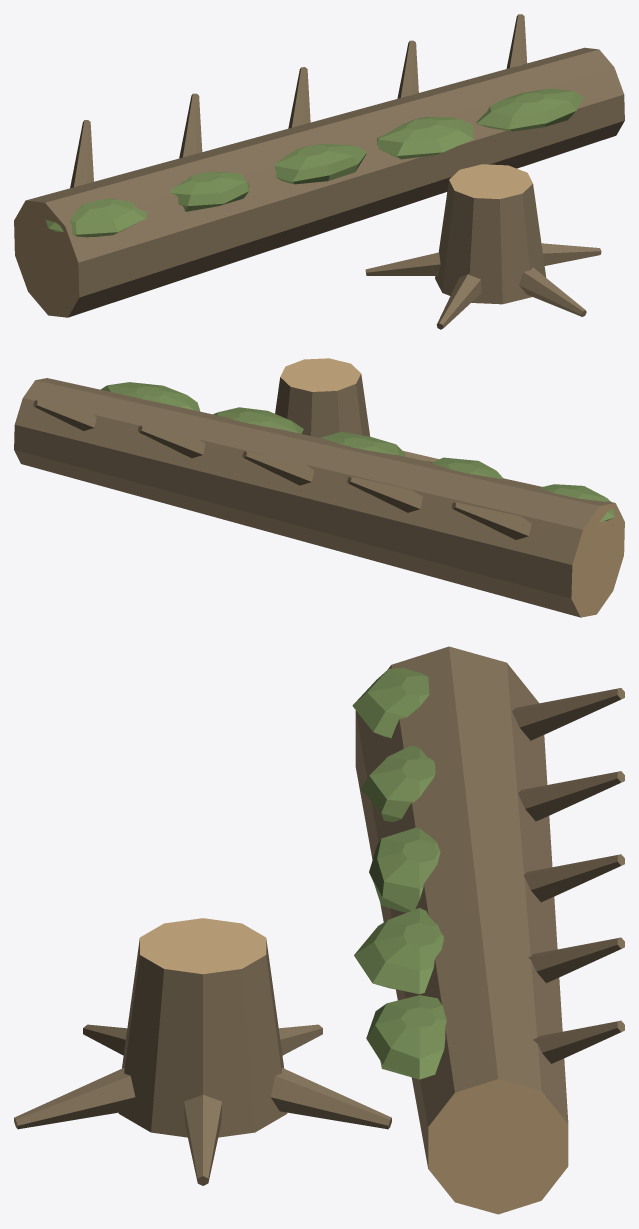
Rendered from detail_deadwood.glb.
3 renders of one model, top to bottom at view 1: azimuth 30°, elevation 25°; view 2: azimuth 150°, elevation 25°; view 3: azimuth 270°, elevation 25°, orthographic. The views are drawn at different scales.
Parts seen in each view (by area): view 1: detail_deadwood; view 2: detail_deadwood; view 3: detail_deadwood.
Part boxes in pixels (x1,y1,x2,y2): detail_deadwood: [14, 14, 624, 329]; detail_deadwood: [14, 358, 624, 617]; detail_deadwood: [14, 646, 624, 1214].
Bounding box in the file's own units: 4.27 × 0.9398 × 2.48.
